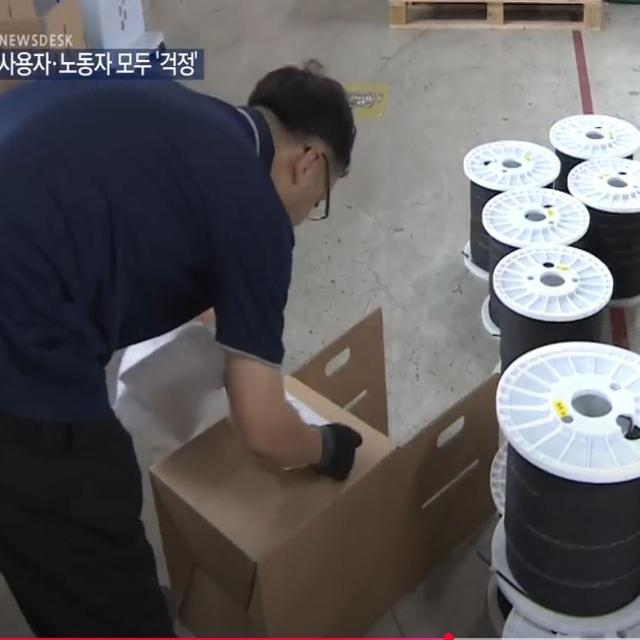gloved_hand: (306, 416, 364, 487)
